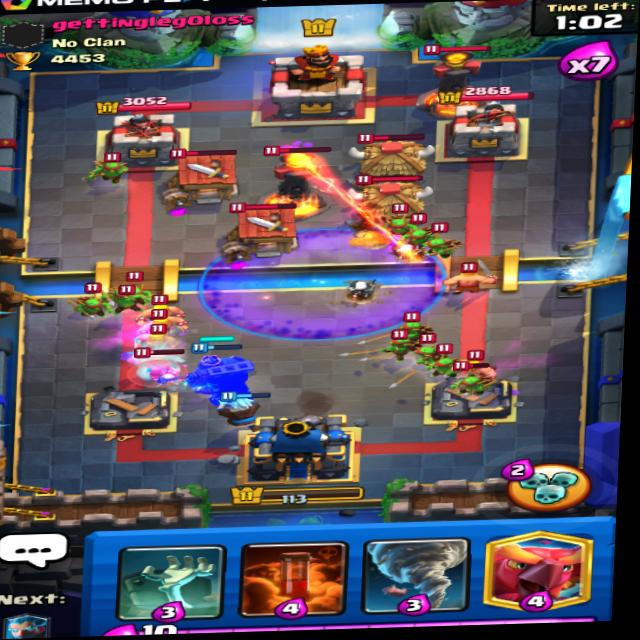barbarian: (129, 304, 190, 335), (443, 267, 495, 298), (130, 323, 181, 351), (457, 357, 504, 385), (138, 298, 182, 320)
barbarian-hut: (221, 199, 310, 255), (162, 143, 245, 202)
goblin-hut: (346, 129, 440, 193), (345, 165, 435, 226)
inferno-tower: (261, 142, 337, 217)
spear-goblin: (447, 363, 487, 396), (427, 344, 462, 378), (408, 335, 445, 367), (90, 147, 124, 180), (393, 315, 437, 338), (449, 307, 480, 337), (78, 288, 112, 315), (111, 286, 142, 313), (120, 278, 151, 305), (385, 335, 417, 360), (422, 234, 454, 259), (401, 225, 434, 247), (381, 211, 417, 231)
